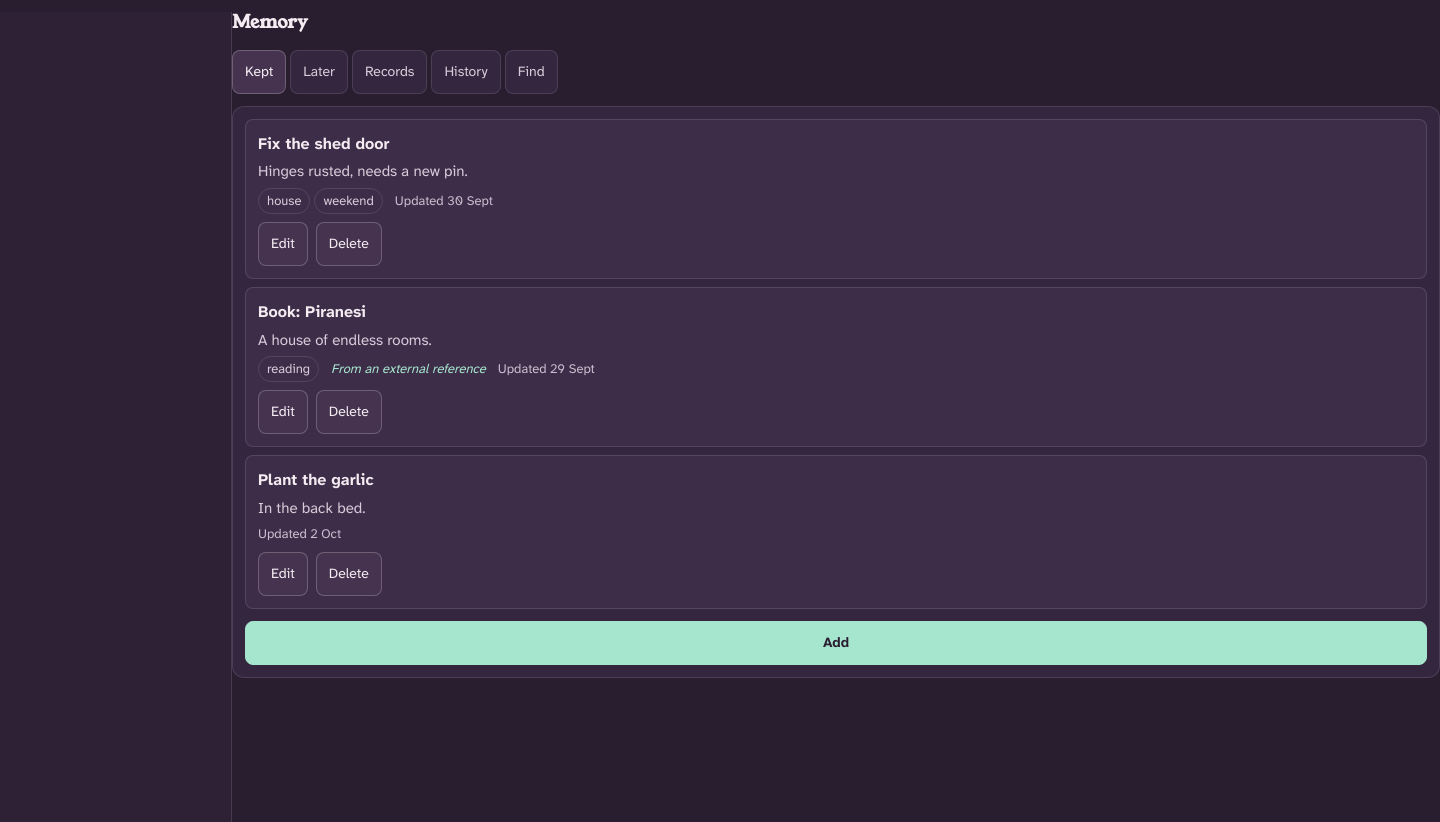
Test: Memory edit › Edit PATCHes only the changed fields
Click the tab "Kept".
click(259, 72)  # box [232,50,286,94]
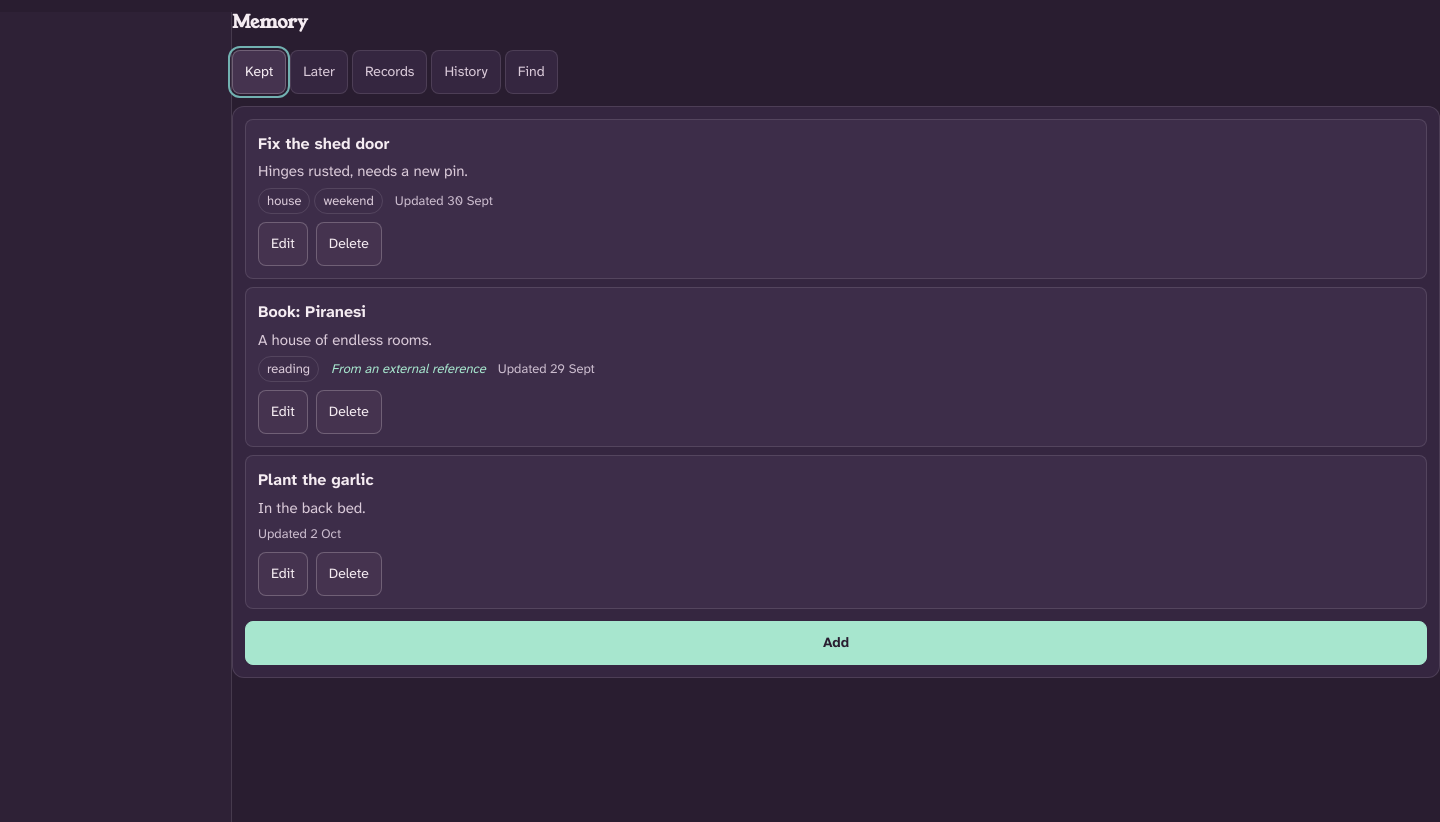
Click the button "Edit" below "Fix the shed door".
click(283, 244)  # box [258,222,308,266]
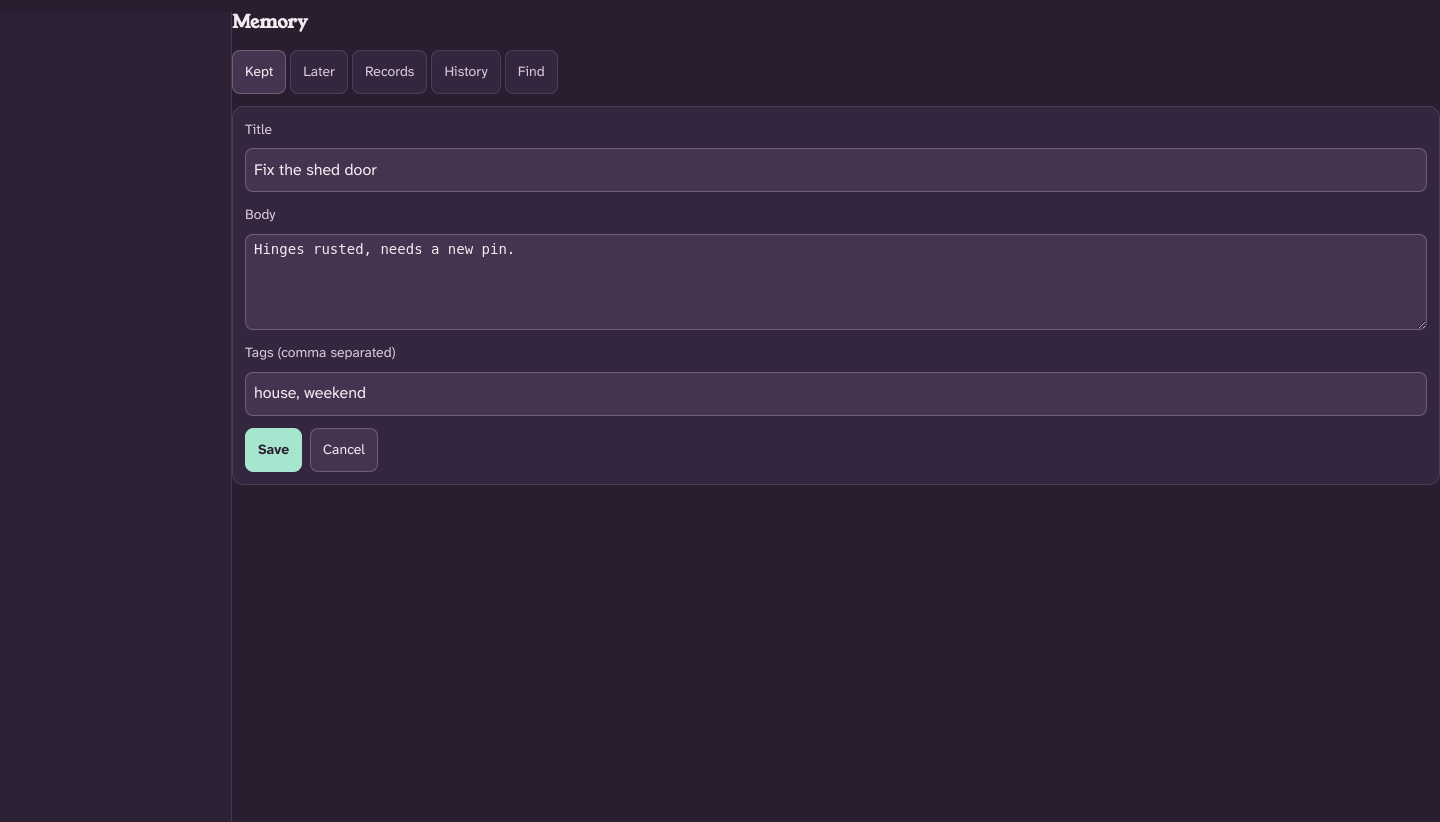
Replace the text in the field labelled "Title" with "Repair the shed door" at (836, 170), box [245,148,1427,192]
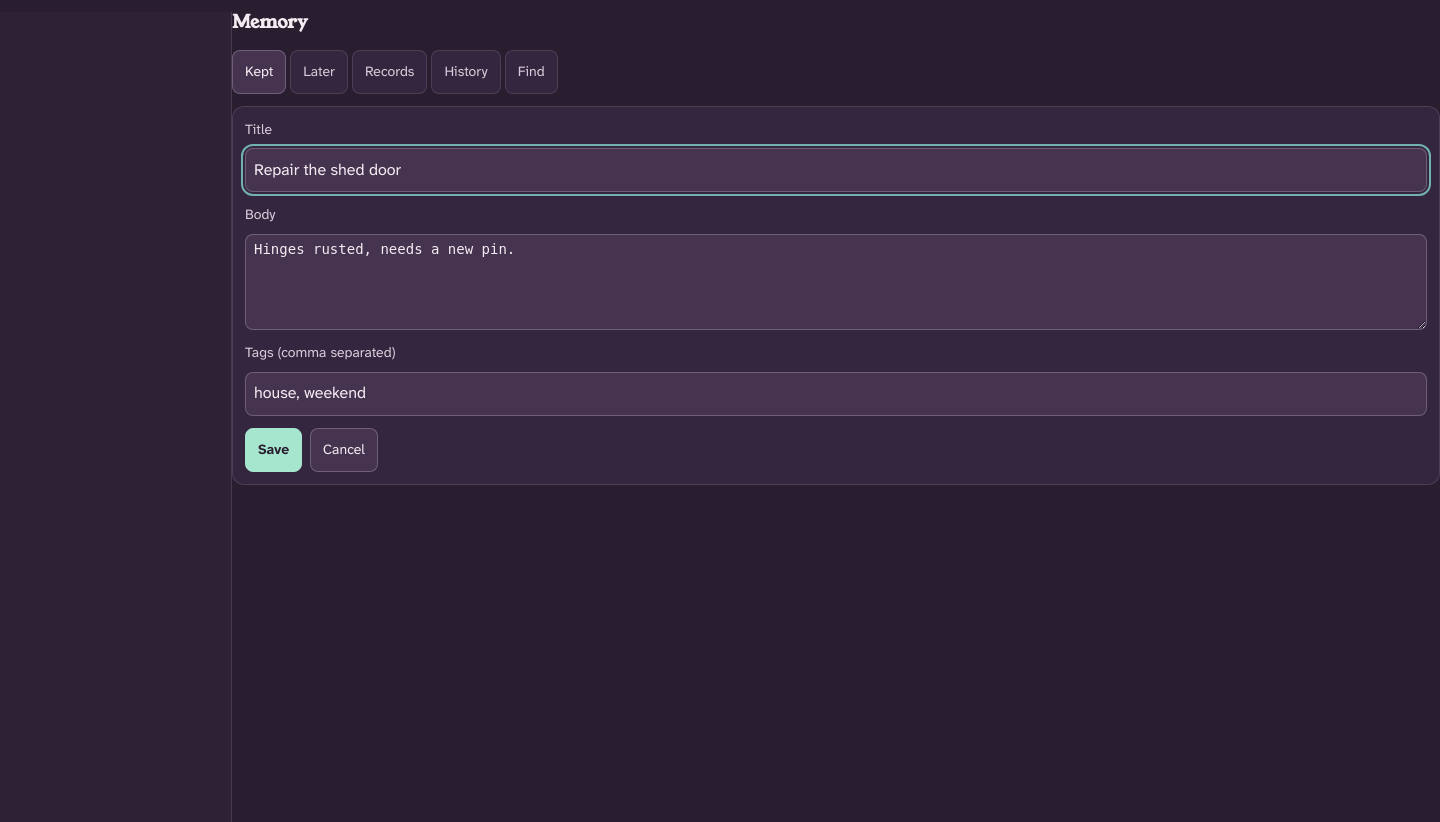
Click the button "Save".
click(274, 450)  # box [245,428,302,472]
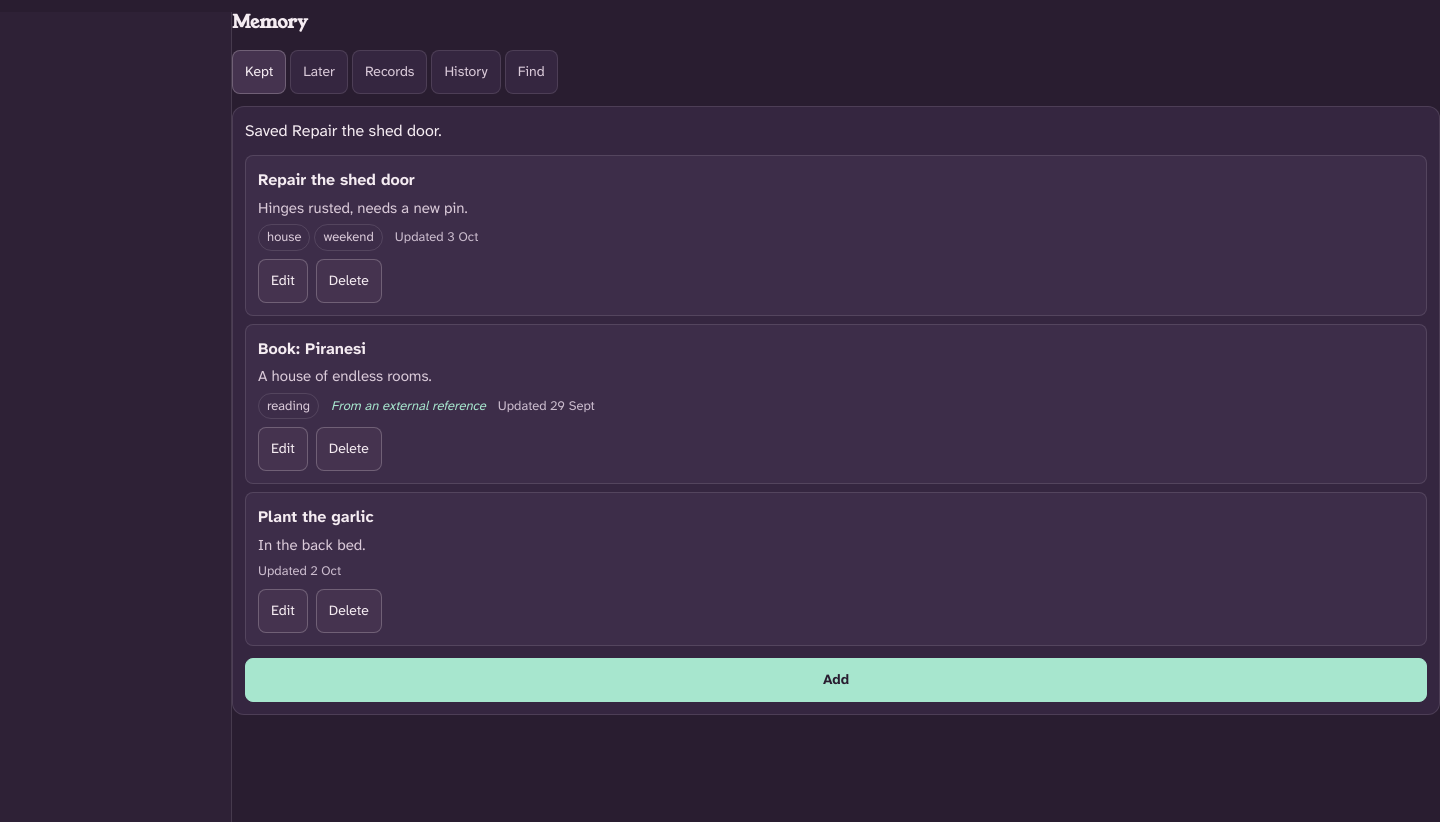
Expected: the text "Repair the shed door" is shown, [258,168,415,193]
